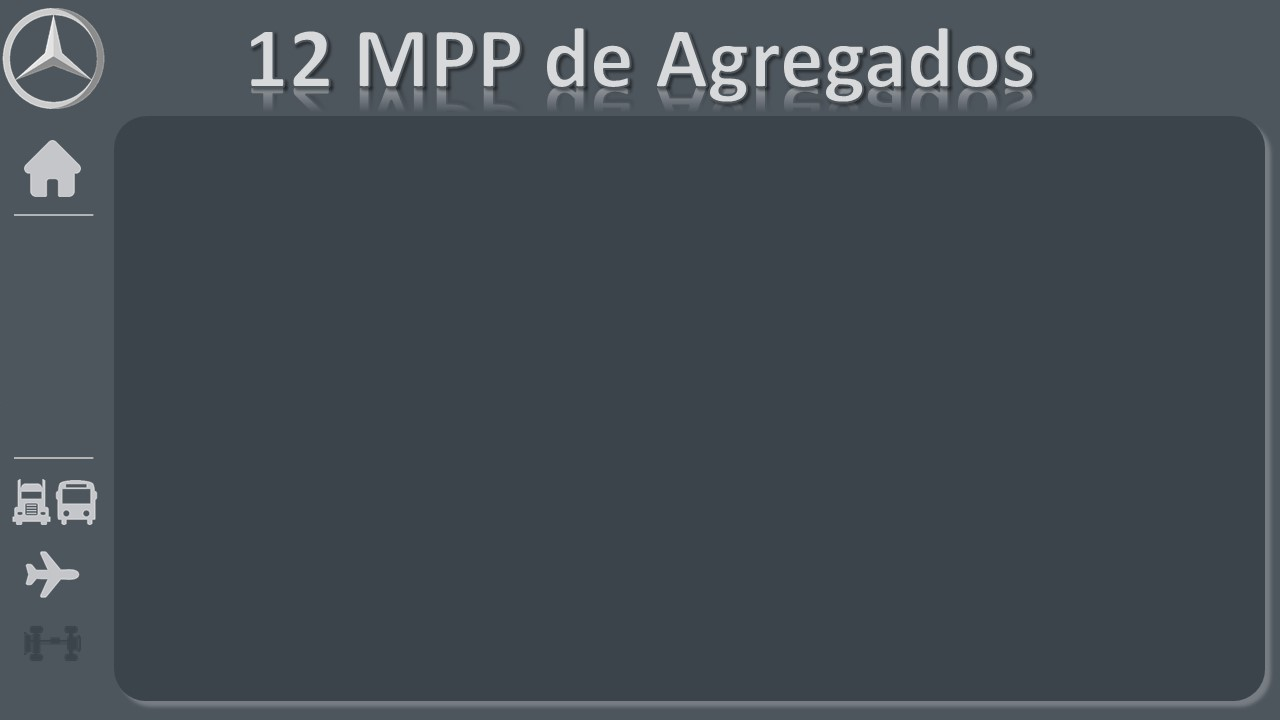

This screenshot's page, from the dashboard's own definition file:
{"tool":"powerbi","page":{"name":"HomePage","canvas":[1280,720],"ordinal":0},"visuals":[{"type":"actionButton","box":[198.9,360.1,229,86.7],"z":0},{"type":"actionButton","box":[198.9,461.9,229,72.6],"z":1000},{"type":"actionButton","box":[198.9,555.2,240.4,80.1],"z":2000},{"type":"actionButton","box":[570.3,360.1,229,86.7],"z":3000},{"type":"actionButton","box":[566.5,461.9,229,72.6],"z":4000},{"type":"actionButton","box":[570.3,555.2,240.4,80.1],"z":5000},{"type":"actionButton","box":[934.1,360.1,229,86.7],"z":6000},{"type":"actionButton","box":[931.3,461.9,229,72.6],"z":7000},{"type":"actionButton","box":[936,555.2,240.4,80.1],"z":8000}]}

Visuals, with their boxes in screenshot pixels (x1, y1, x2, y2), scaled from the page's 1280x720 canvas onto the 1280x720 screenshot:
actionButton: 199/360/428/447
actionButton: 199/462/428/534
actionButton: 199/555/439/635
actionButton: 570/360/799/447
actionButton: 566/462/796/534
actionButton: 570/555/811/635
actionButton: 934/360/1163/447
actionButton: 931/462/1160/534
actionButton: 936/555/1176/635
